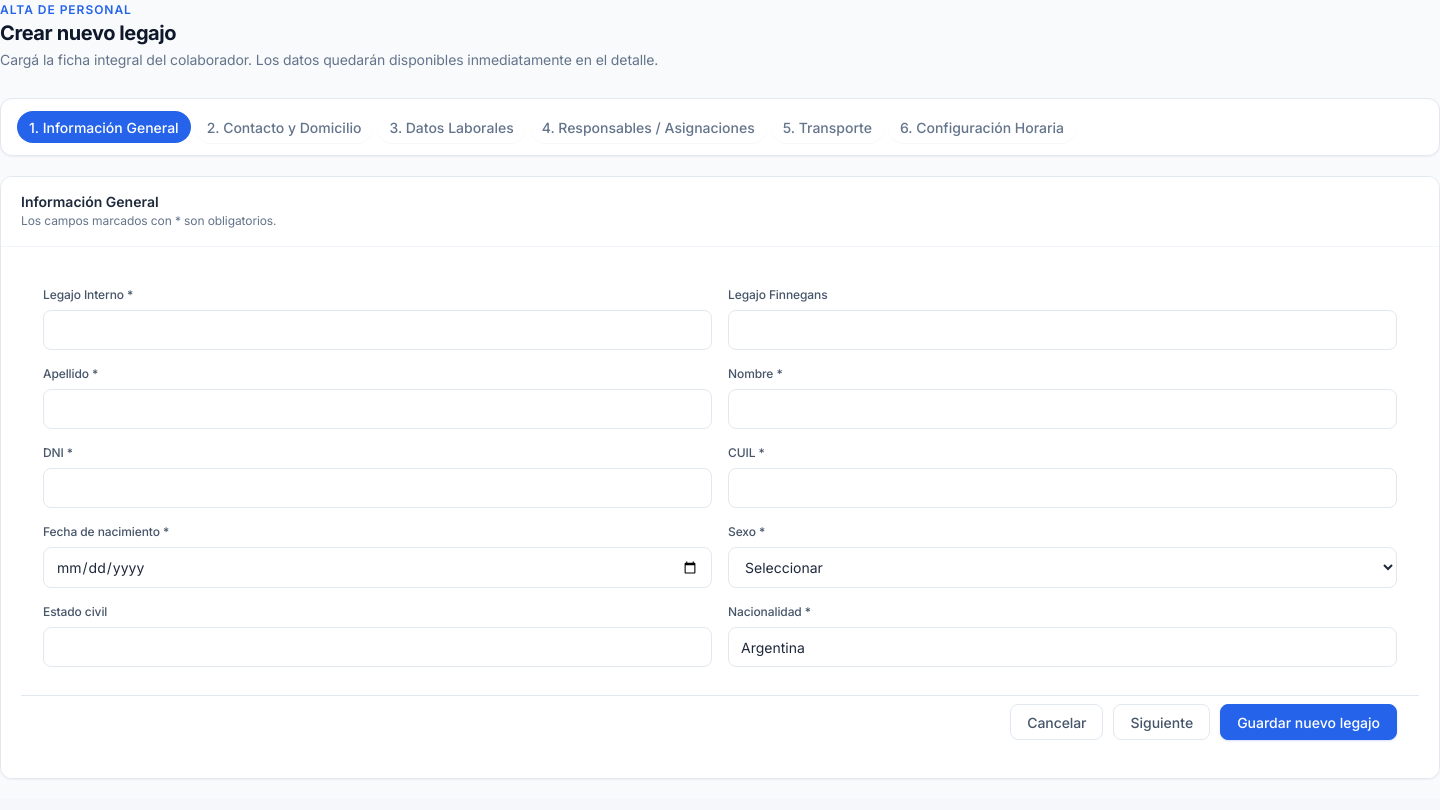
Test case: EmployeeCreatePage — alta de legajo sin selector de Rol en Responsables / Asignaciones › la sección de Responsable de carga horaria no muestra ningún selector ni nota de Rol
Click the button "4. Responsables / Asignaciones".
click(648, 127)  # box [530,111,767,143]
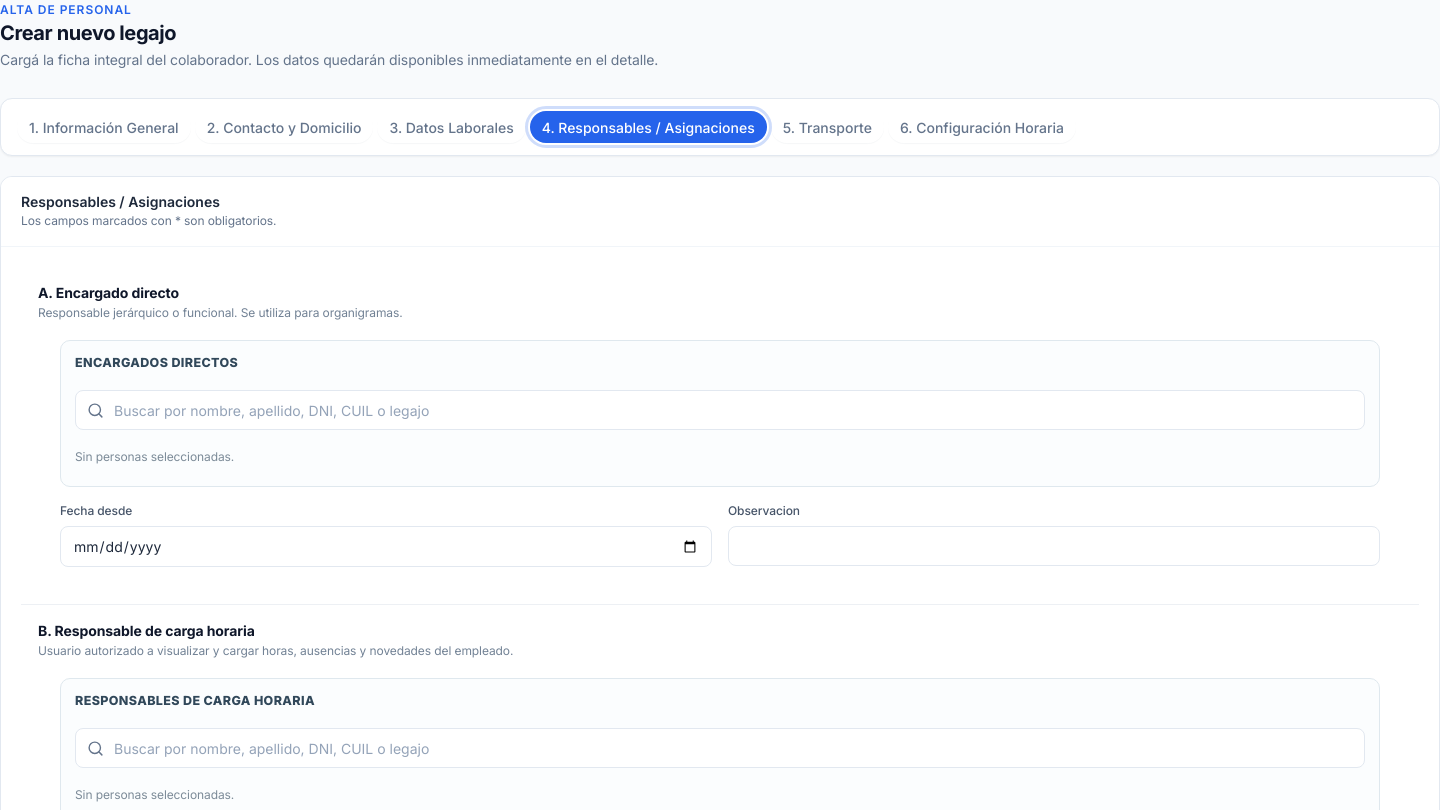
Result: the text "Responsables de carga horaria" is shown at [75,693,315,708]
